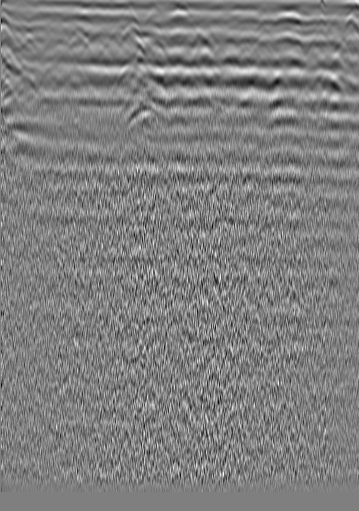가스: (122, 143, 159, 175)
상수: (277, 27, 297, 47)
오수: (19, 30, 39, 50)
우수: (167, 24, 187, 44)
